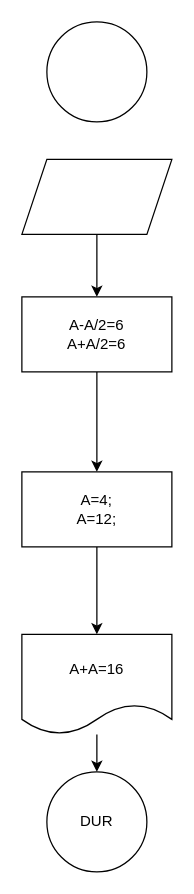
The diagram is 194 pixels wide and 894 high, and some of its shapes have lost their labels. The centre of each missing label's shape, as x and y in pixels:
BAŞLA: [96,71]
sayı doğrusu ,A,0: [96,196]
